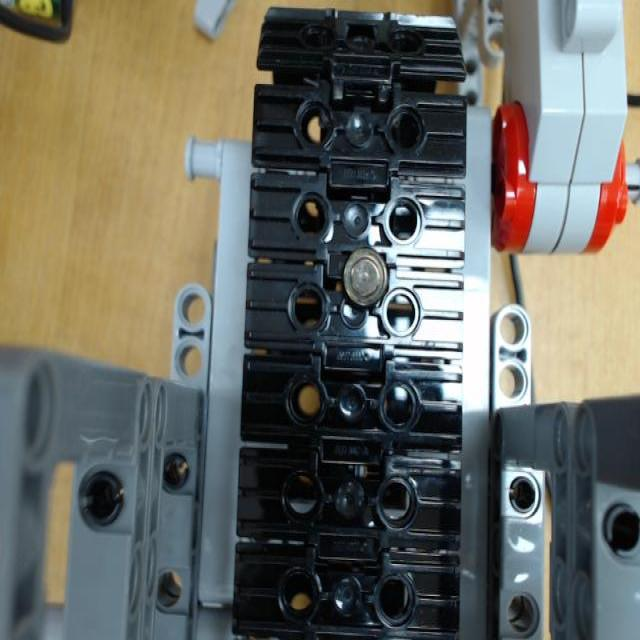COIN: (345, 250, 389, 307)
